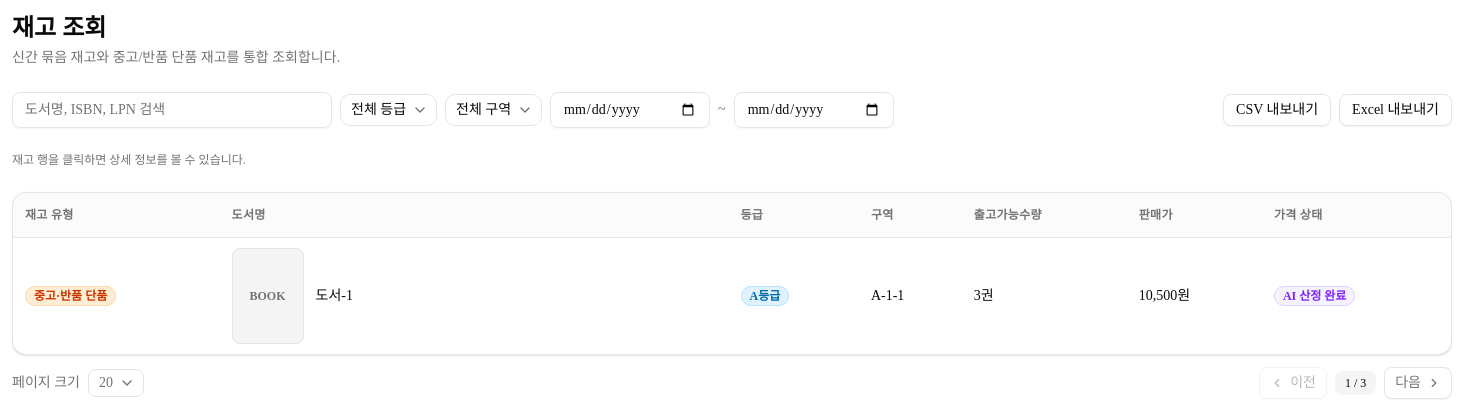
Test: InventoryGridView › '다음' 클릭 시 page=2로 재조회한다
The image size is (1464, 416).
Expected: the text "도서-1" is shown, [316,286,353,306]
Click the button "다음" at (1418, 382), box [1384,366,1452,398]
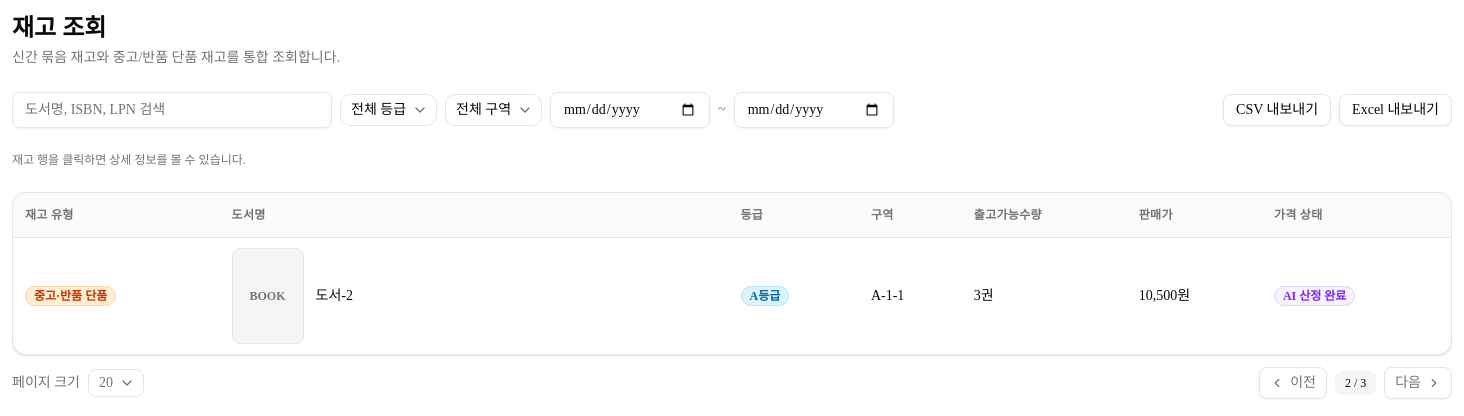
Expected: the text "도서-2" is shown, [316,286,353,306]
